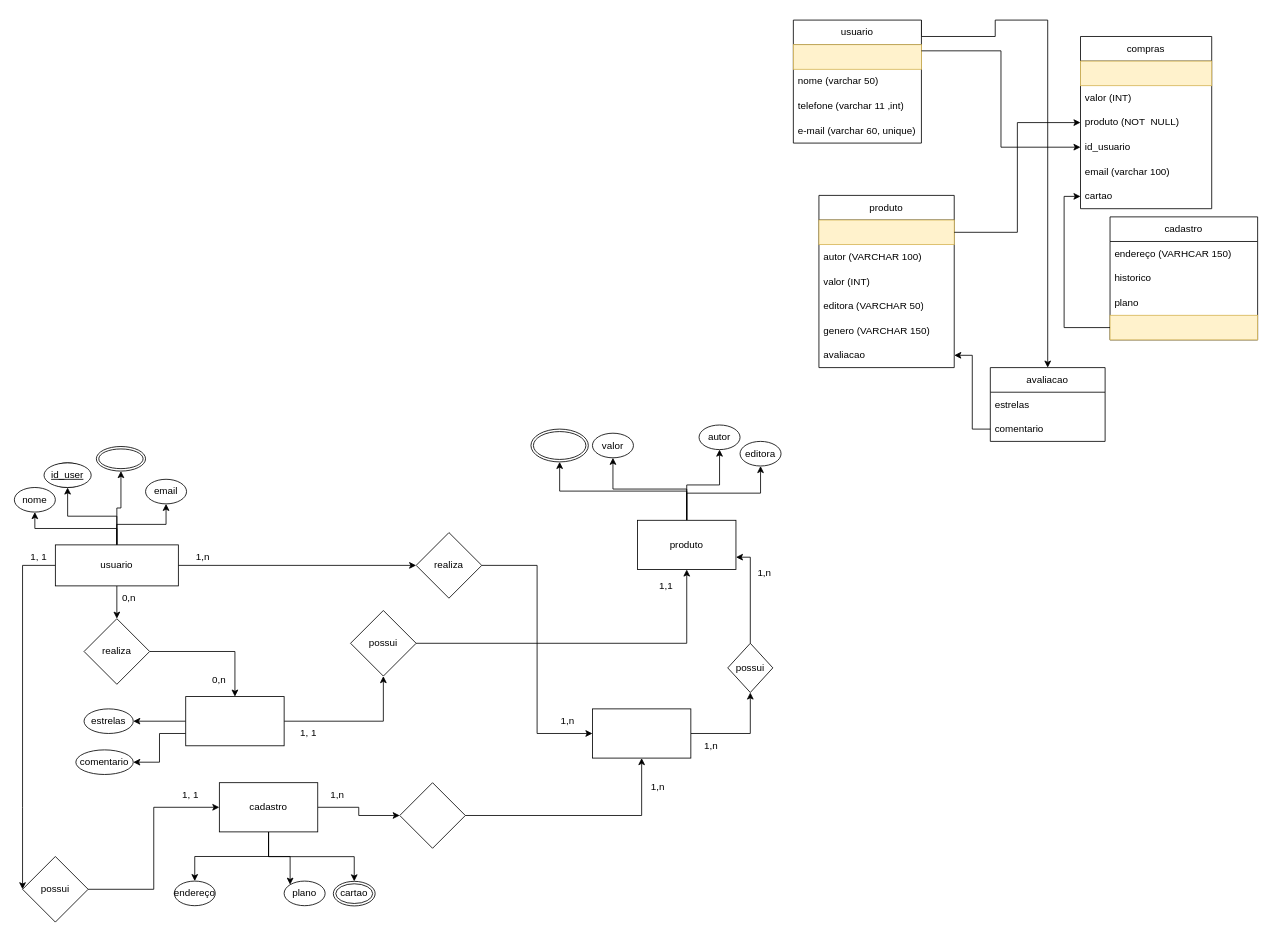
Some shapes in this 1273 by 936 pixel diagram are drawn without their labels. Here are the shapes that lost their labels. From the top down, the centre of each, then its label:
pixel 857 56: id_user (PRIMARY KEY)
pixel 1146 73: id_compra (PRIMARY KEY)
pixel 886 232: nome (PRIMARY KEY)
pixel 1183 327: cartao (INT)
pixel 121 458: telefone
pixel 559 445: genero
pixel 234 721: avaliação
pixel 641 733: compra
pixel 432 815: preenche
